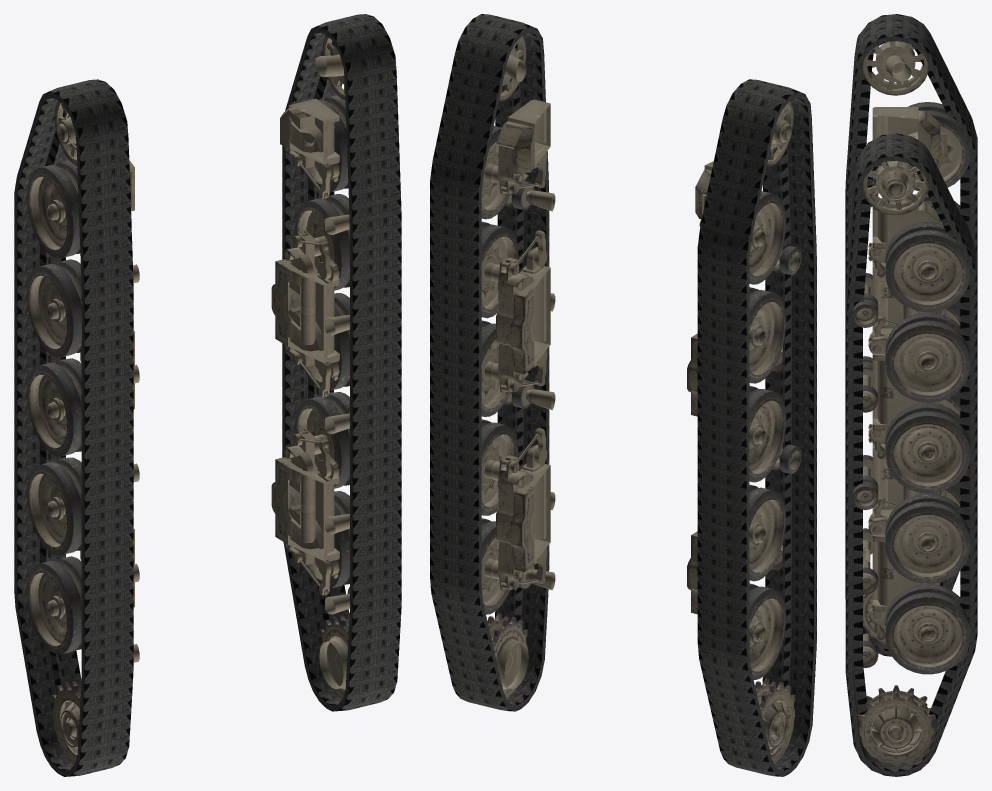
Rendered from Chassis.glb.
3 renders of one model, left to right at view 1: azimuth 30°, elevation 25°; view 2: azimuth 150°, elevation 25°; view 3: azimuth 270°, elevation 25°, orthographic. The views are drawn at different scales.
Visible parts, largest first — view 1: set_4_group_0, set_5_group_0, set_1_group_0, set_3_group_0, set_0_group_0; view 2: set_4_group_0, set_5_group_0, set_1_group_0, set_3_group_0, set_0_group_0; view 3: set_1_group_0, set_5_group_0, set_3_group_0, set_4_group_0, set_0_group_0.
Part boxes in pixels (box(x1,y1,x2,y2)): set_4_group_0: box(14, 79, 133, 776); set_5_group_0: box(282, 14, 401, 711); set_1_group_0: box(271, 35, 349, 699); set_3_group_0: box(27, 100, 139, 764); set_0_group_0: box(284, 428, 330, 595); set_4_group_0: box(697, 79, 816, 776); set_5_group_0: box(430, 14, 549, 711); set_1_group_0: box(481, 35, 555, 698); set_3_group_0: box(687, 101, 801, 764); set_0_group_0: box(484, 428, 546, 589); set_1_group_0: box(852, 160, 970, 764); set_5_group_0: box(845, 133, 977, 776); set_3_group_0: box(853, 41, 970, 643); set_4_group_0: box(845, 14, 977, 656); set_0_group_0: box(874, 497, 897, 639).
Bounding box in the file's own units: 3.3 × 6.78 × 1.3.
Materials: 6 (6 with a texture image).
